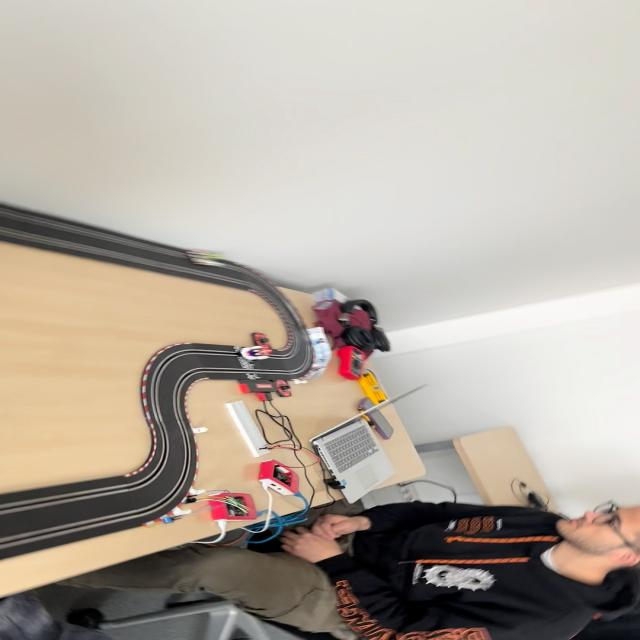mario: (238, 343, 275, 363)
yoshi: (182, 245, 230, 267)
